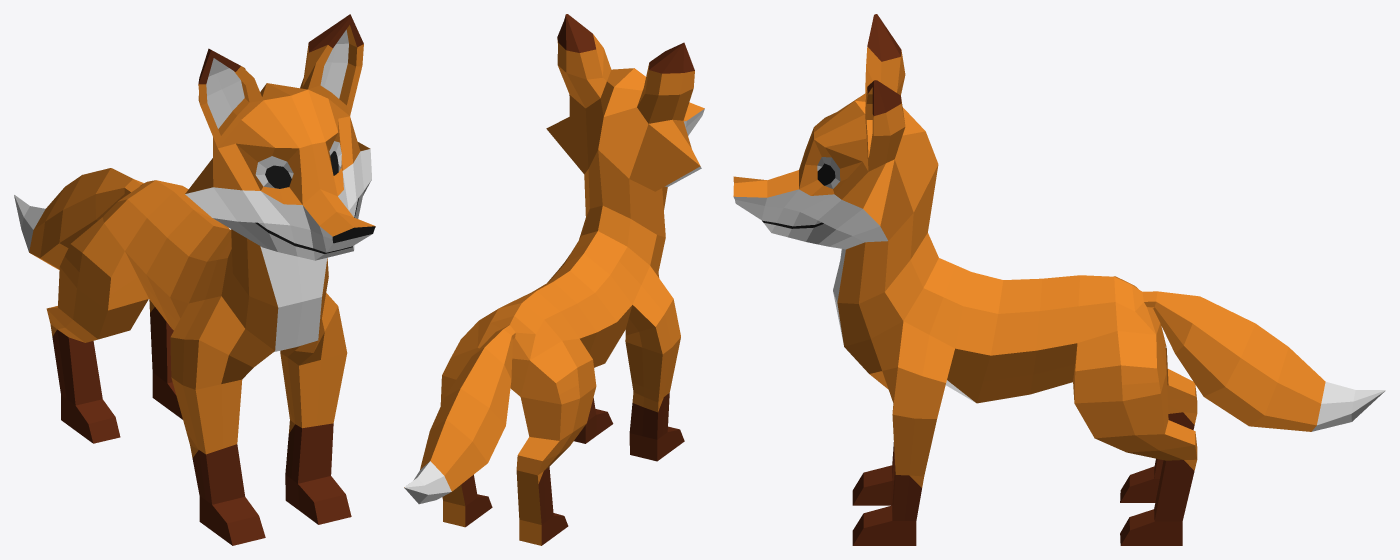
File: little_fox9.glb
The picture shows the model from 3 angles, left to right: view 1: azimuth 30°, elevation 25°; view 2: azimuth 150°, elevation 25°; view 3: azimuth 270°, elevation 25°; orthographic projection. The views are drawn at different scales.
Parts seen in each view (by area): view 1: fox; view 2: fox; view 3: fox.
Part boxes in pixels (<box>): fox: <box>14,14,375,545</box>; fox: <box>404,14,704,545</box>; fox: <box>733,14,1385,545</box>.
Bounding box in the file's own units: 0.5632 × 1.42 × 1.79.
